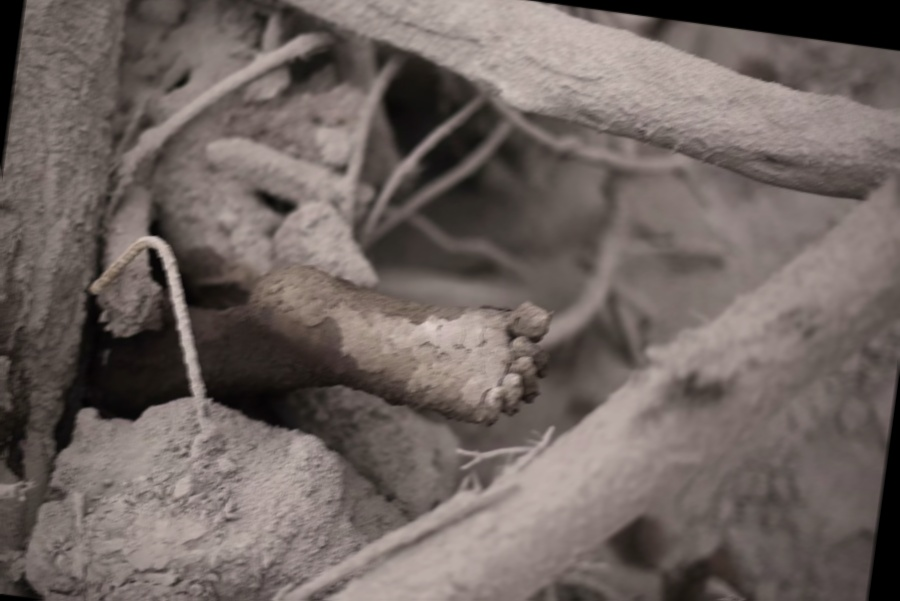Korban: (96, 239, 557, 468)
